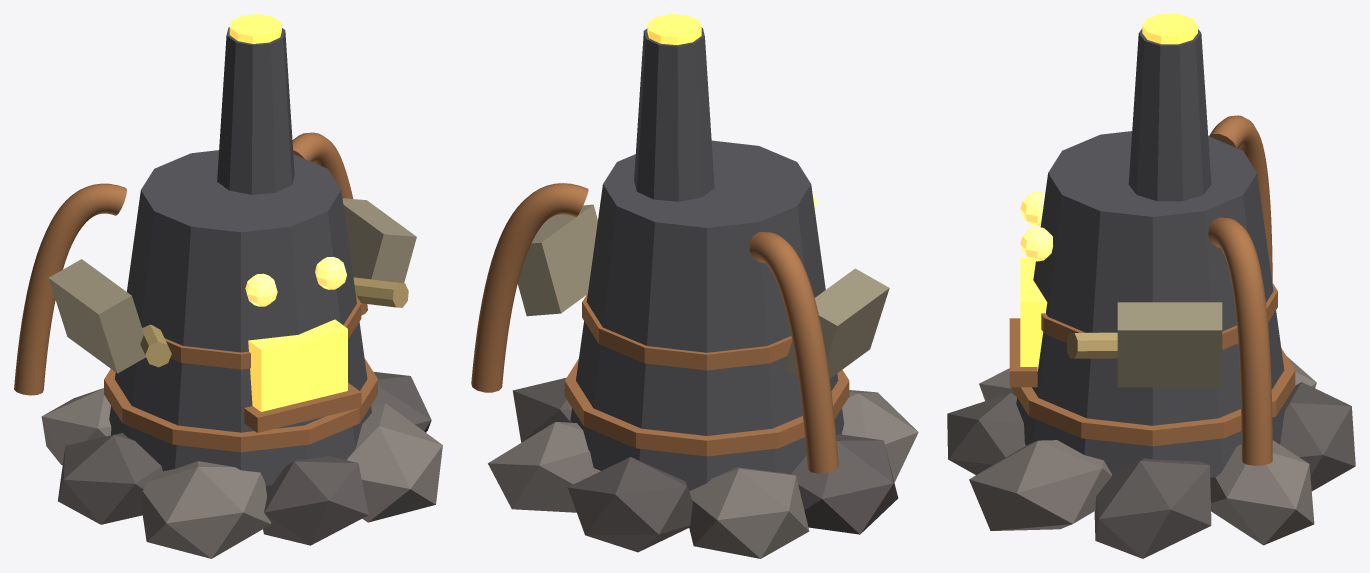
Rendered from foundry_heart.glb.
3 renders of one model, left to right at view 1: azimuth 30°, elevation 25°; view 2: azimuth 150°, elevation 25°; view 3: azimuth 270°, elevation 25°, orthographic. The views are drawn at different scales.
Visible parts, largest first — view 1: foundry_heart; view 2: foundry_heart; view 3: foundry_heart.
Part boxes in pixels (bbox=[...]): foundry_heart: bbox=[14, 14, 442, 558]; foundry_heart: bbox=[471, 14, 918, 558]; foundry_heart: bbox=[947, 14, 1355, 558].
Size of the model in its own units: 1.25 by 1.49 by 1.17.
